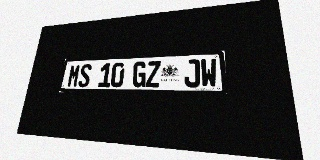0: (110, 62, 125, 87)
1: (98, 63, 112, 87)
G: (132, 61, 147, 87)
J: (184, 59, 200, 87)
M: (67, 64, 81, 87)
S: (77, 64, 92, 87)
W: (200, 58, 218, 87)
Z: (146, 61, 161, 87)
